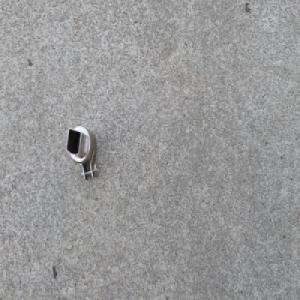MetalPart: (65, 123, 100, 182)
